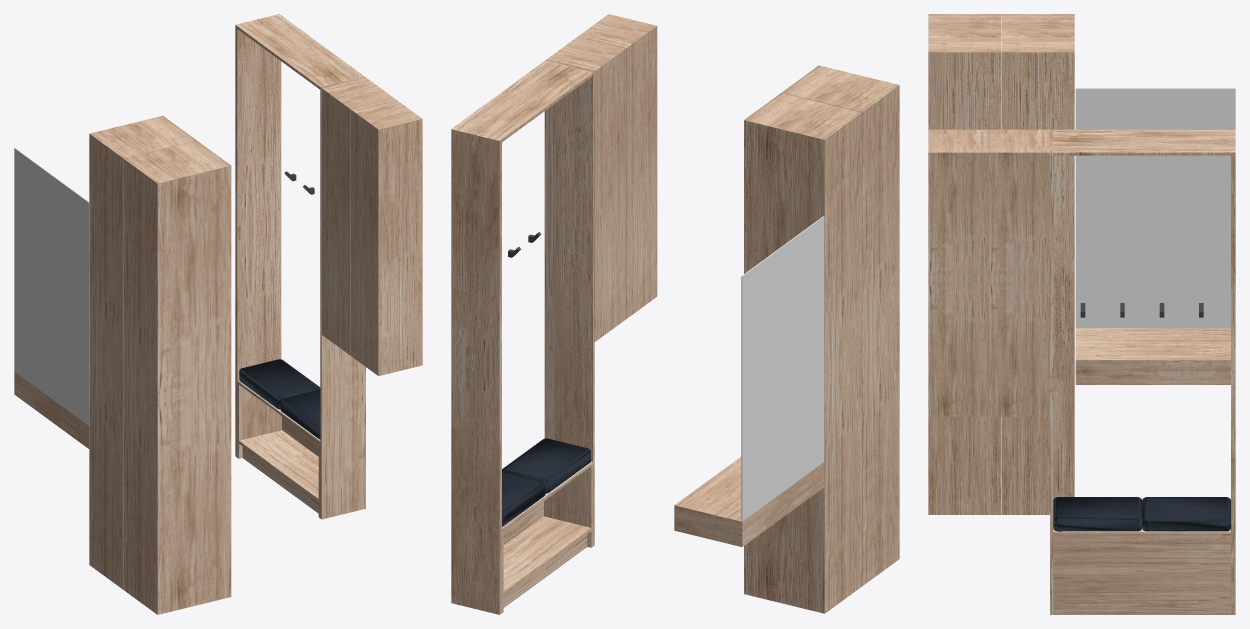
Rendered from entrance.glb.
3 renders of one model, left to right at view 1: azimuth 30°, elevation 25°; view 2: azimuth 150°, elevation 25°; view 3: azimuth 270°, elevation 25°, orthographic. The views are drawn at different scales.
Parts seen in each view (by area): view 1: Body32, Body4, Body36, Body33, Body13, Body35, Body37, Body6, Body10, Body12, Body9; view 2: Body33, Body4, Body32, Body13, Body37, Body36, Body35, Body6, Body12, Body9, Body10; view 3: Body13, Body33, Body35, Body36, Body32, Body6, Body12, Body4, Body9, Body10, Body37.
Boxes of the visible parts, x1,y1,x2,y2 form: Body32: [123, 141, 231, 614]; Body4: [235, 14, 363, 457]; Body36: [350, 98, 422, 375]; Body33: [89, 115, 196, 589]; Body13: [14, 148, 89, 425]; Body35: [322, 77, 393, 354]; Body37: [320, 76, 365, 519]; Body6: [237, 380, 320, 517]; Body10: [239, 359, 320, 409]; Body12: [14, 371, 89, 448]; Body9: [280, 389, 320, 439]; Body33: [744, 93, 861, 613]; Body4: [451, 61, 592, 614]; Body32: [781, 65, 899, 586]; Body13: [741, 216, 824, 521]; Body37: [544, 59, 594, 546]; Body36: [578, 14, 657, 318]; Body35: [547, 37, 625, 341]; Body6: [502, 461, 592, 612]; Body12: [674, 456, 824, 546]; Body9: [502, 438, 590, 493]; Body10: [502, 472, 545, 526]; Body13: [1075, 88, 1235, 328]; Body33: [1001, 14, 1074, 514]; Body35: [989, 129, 1049, 416]; Body36: [928, 129, 988, 416]; Body32: [928, 14, 1001, 514]; Body6: [1053, 528, 1230, 614]; Body12: [1075, 328, 1230, 384]; Body4: [1053, 129, 1235, 614]; Body9: [1053, 497, 1142, 531]; Body10: [1142, 497, 1230, 531]; Body37: [1050, 129, 1053, 614].
Bounding box in the file's own units: 1.8 × 2.8 × 1.69.
4 materials, 2 textured.
